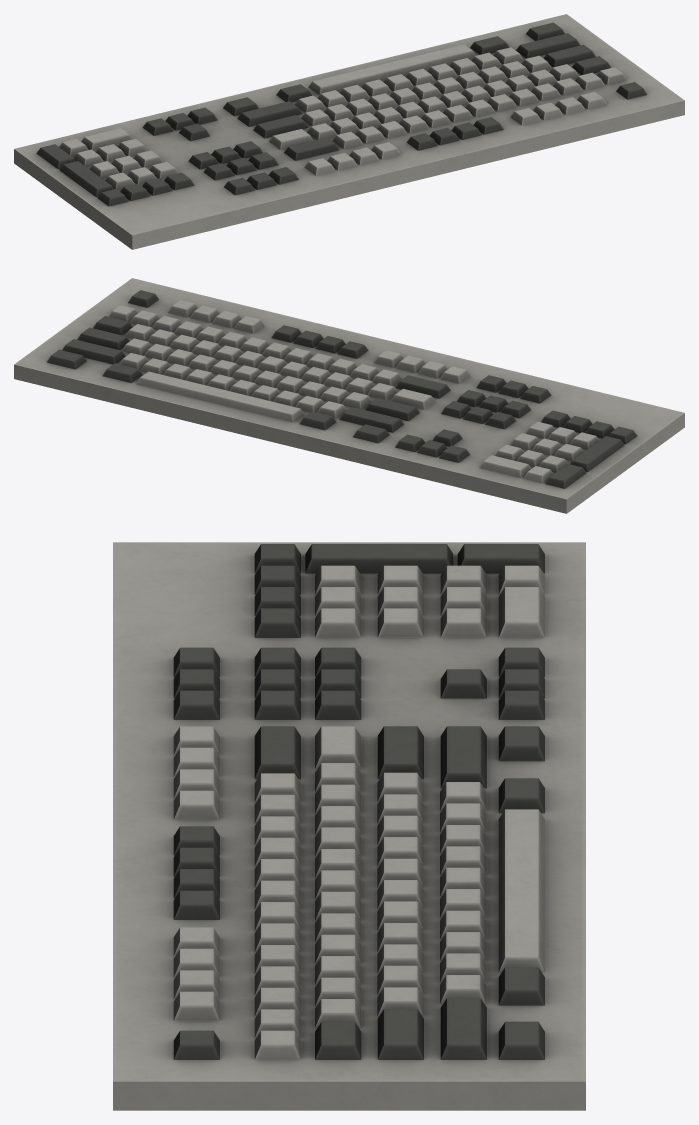
The model's file is Keyboard.fbx.
3 views of the same model, one above another, from view 1: azimuth 30°, elevation 25°; view 2: azimuth 150°, elevation 25°; view 3: azimuth 270°, elevation 25° (orthographic). The views are drawn at different scales.
Visible parts, largest first — view 1: Keyboard; view 2: Keyboard; view 3: Keyboard.
Boxes of the visible parts, x1,y1,x2,y2 form: Keyboard: [14, 14, 684, 249]; Keyboard: [14, 278, 684, 513]; Keyboard: [113, 542, 585, 1110].
Bounding box in the file's own units: 19.2 × 1.86 × 51.81.
